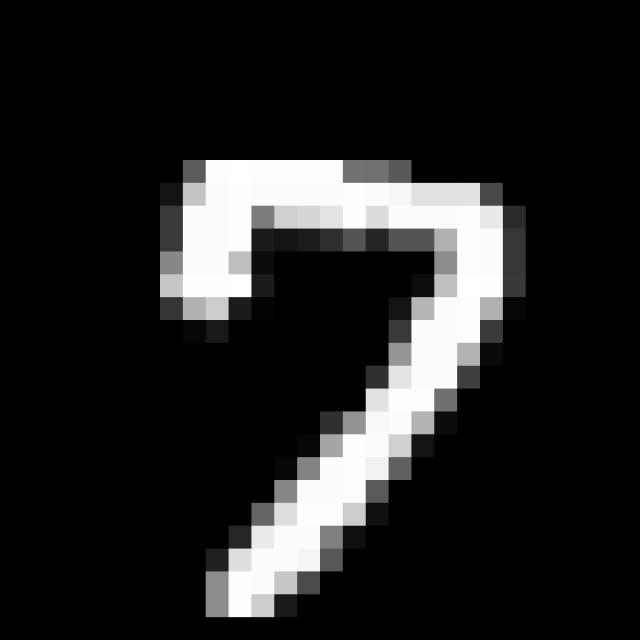seven -7-: (151, 137, 514, 616)
